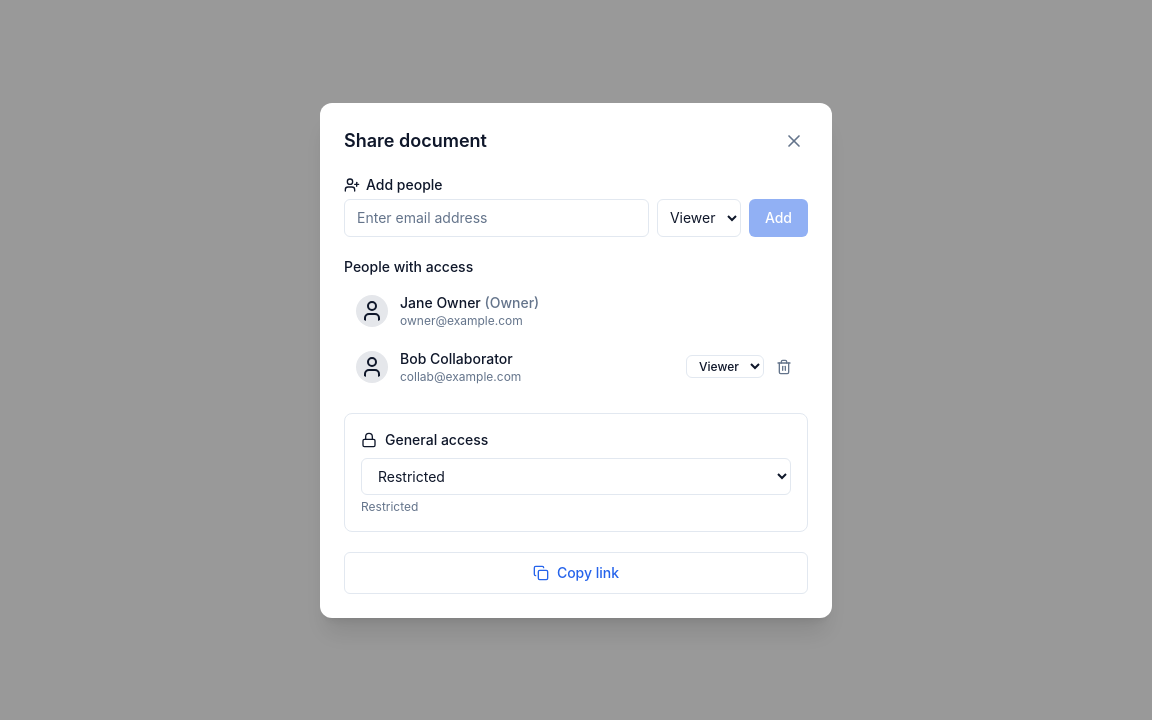
Test: ShareDialog › permission change error: shows Failed to update permission when addCollaborator fails
expect the text "Bob Collaborator" is shown: met, box [400,348,521,368]
Select "Editor" in the dropdown in the row of "Bob Collaborator": (725, 366) [686,355,764,378]
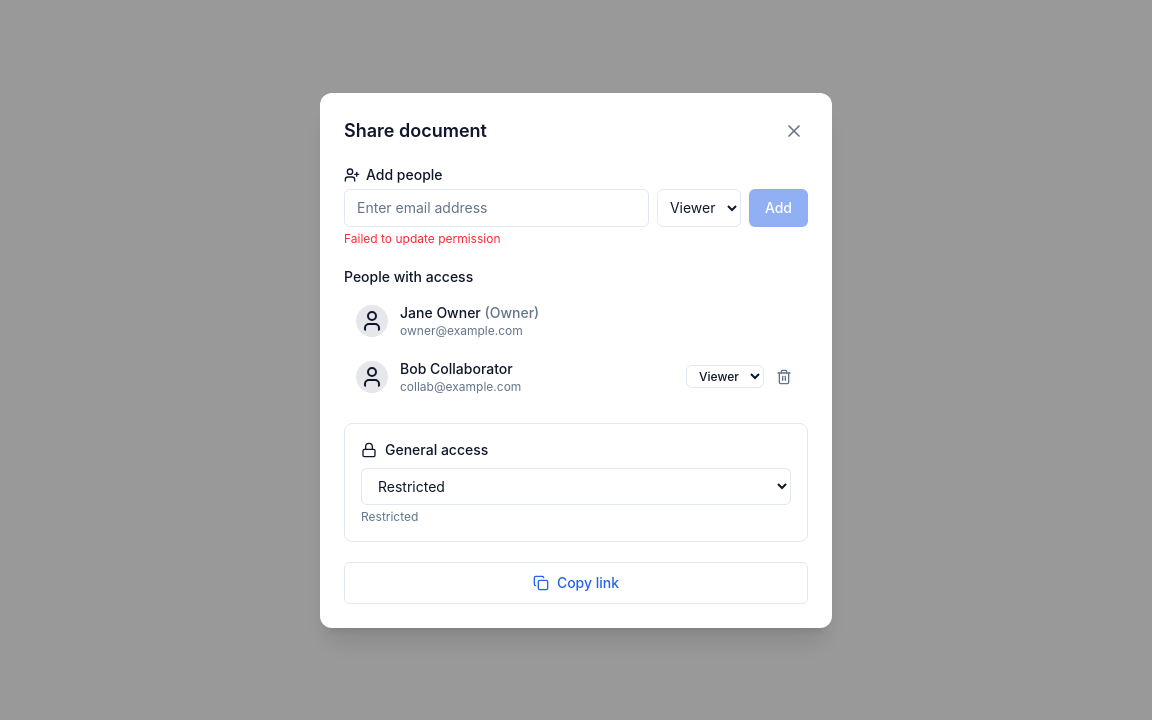
expect the text "Failed to update permission" is shown: met, box [344,230,500,246]
